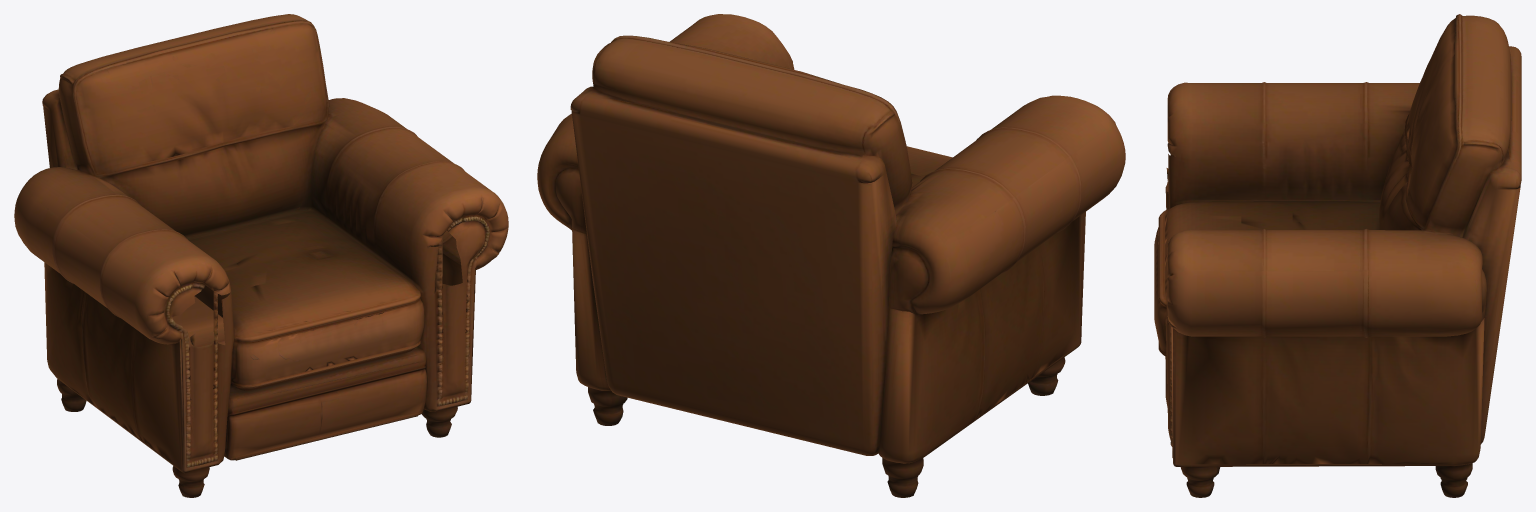
The model's file is a_leather_armchair_d60f1c61_v4.glb.
3 renders of one model, left to right at view 1: azimuth 30°, elevation 25°; view 2: azimuth 150°, elevation 25°; view 3: azimuth 270°, elevation 25°, orthographic. The views are drawn at different scales.
Visible parts, largest first — view 1: material; view 2: material; view 3: material.
Part boxes in pixels (x1=…): material: x1=14, y1=14, x2=508, y2=497; material: x1=537, y1=14, x2=1125, y2=497; material: x1=1154, y1=14, x2=1521, y2=497.
Size of the model in its own units: 1.9 by 1.64 by 1.51.
1 material, 1 textured.
